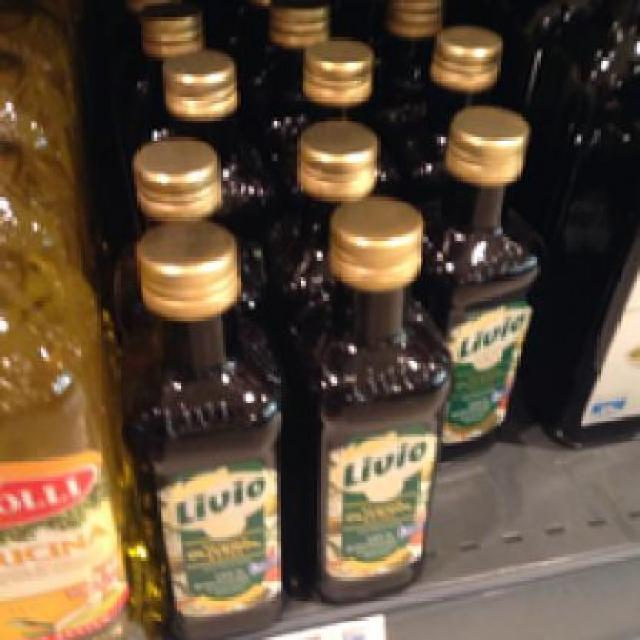Oil: (112, 214, 300, 632), (294, 197, 460, 600), (425, 100, 538, 457)
